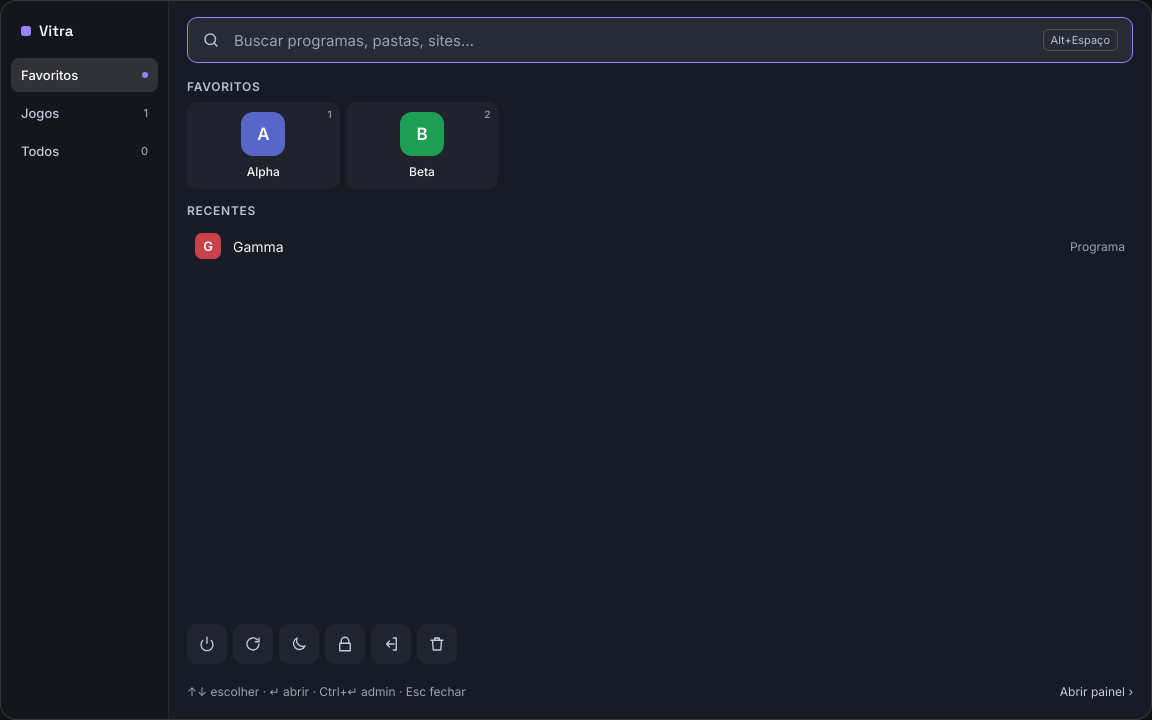
Test: QuickLauncher com itens › Esc com o menu aberto fecha só o menu
Right-click the button "A Alpha 1": (263, 146) [187,102,340,189]
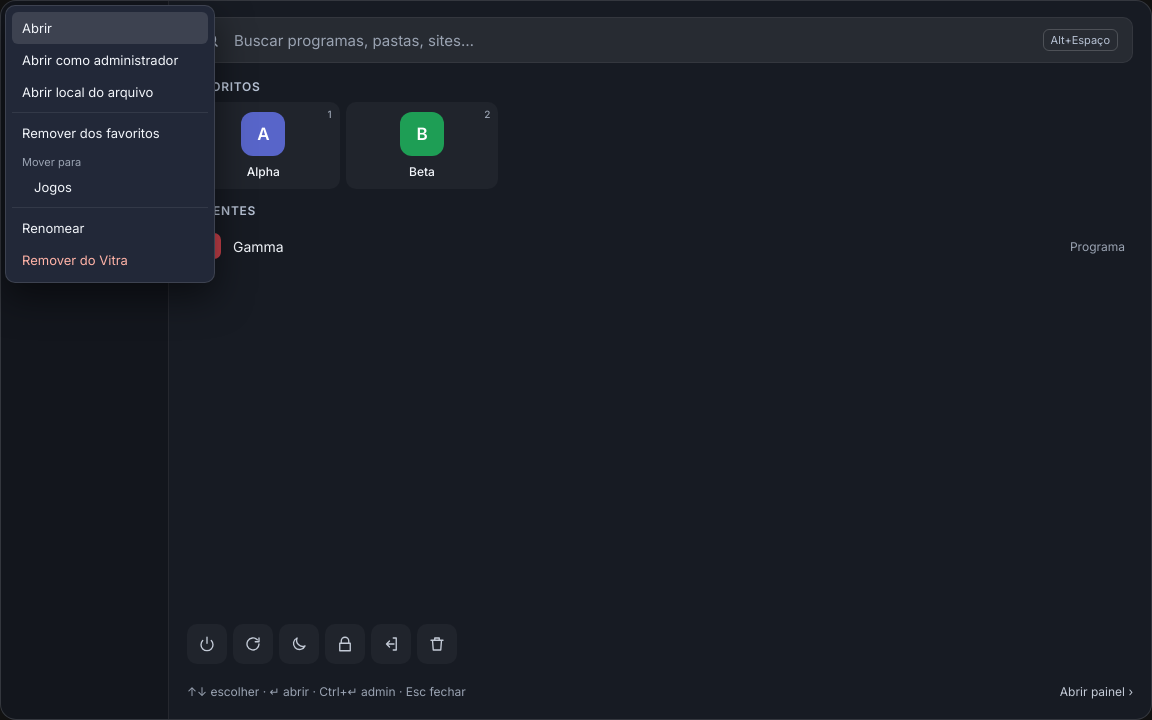
Press Escape
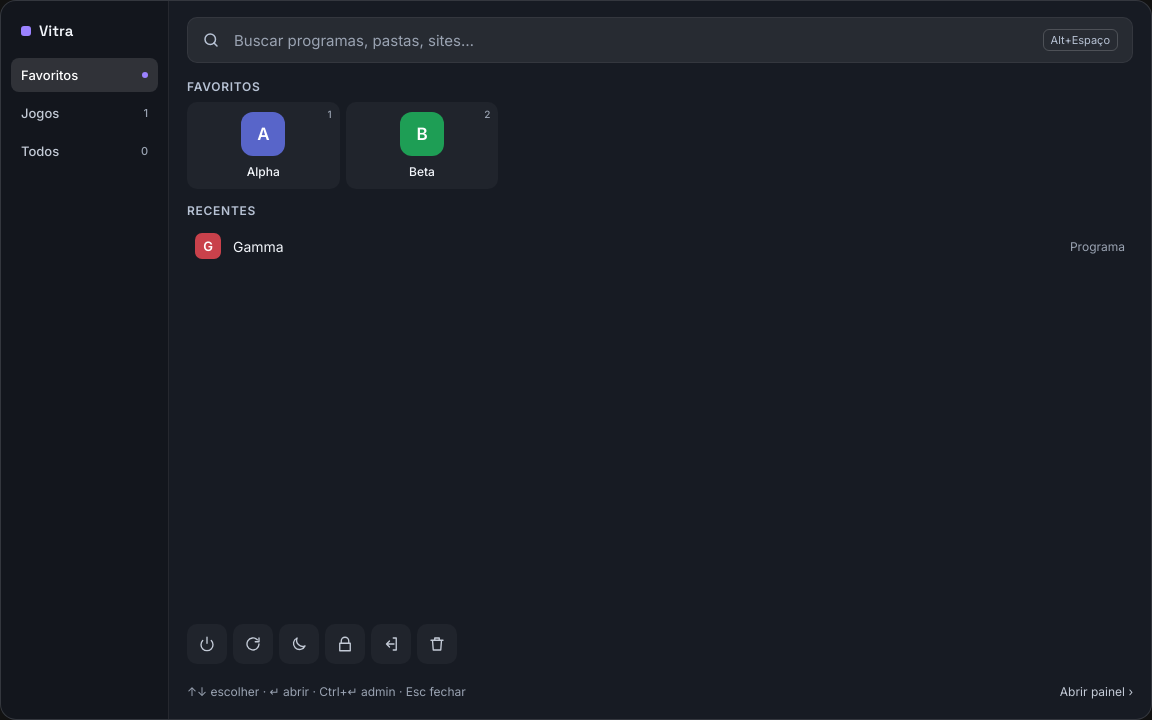
expect the menu is gone: met
